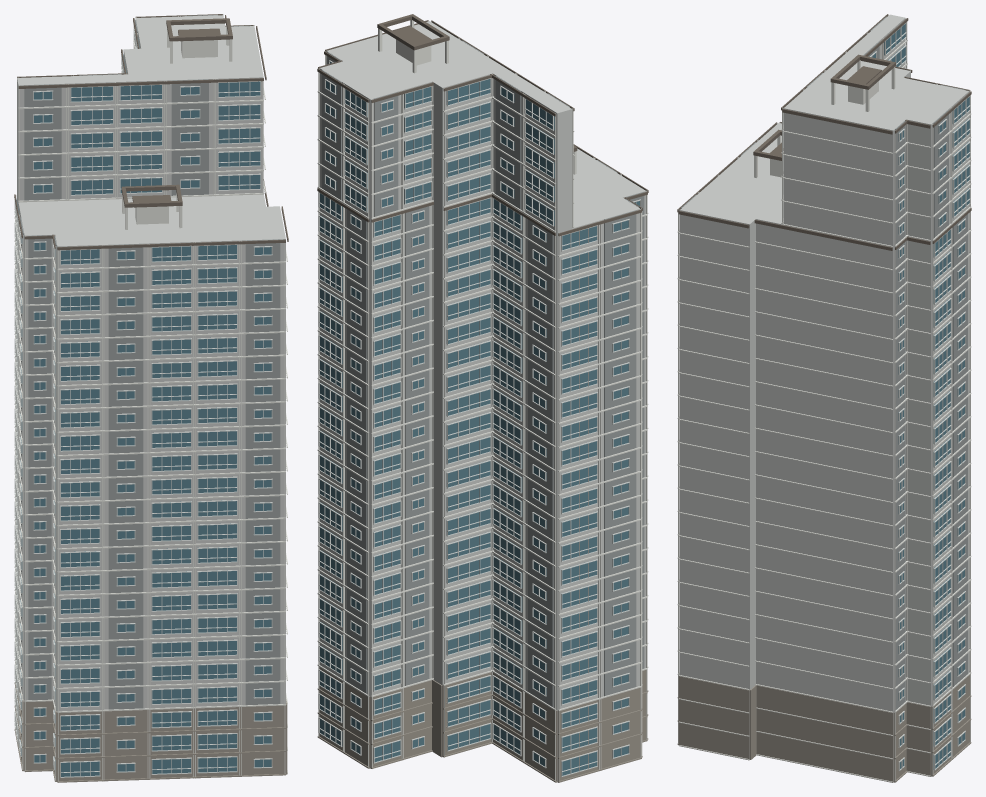
File: bespoke-banpo-xi-130.glb
The picture shows the model from 3 angles, left to right: view 1: azimuth 30°, elevation 25°; view 2: azimuth 150°, elevation 25°; view 3: azimuth 270°, elevation 25°; orthographic projection. The views are drawn at different scales.
Visible parts, largest first — view 1: editable_BX130_pale_silver_limestone, editable_BX130_blue_grey_broad_glazing, editable_BX130_grey_service_core, editable_BX130_white_window_frames, editable_BX130_ivory_course_bands, editable_BX130_warm_ground_stone, editable_BX130_dark_coping; view 2: editable_BX130_blue_grey_broad_glazing, editable_BX130_pale_silver_limestone, editable_BX130_white_window_frames, editable_BX130_grey_service_core, editable_BX130_ivory_course_bands, editable_BX130_warm_ground_stone, editable_BX130_dark_coping; view 3: editable_BX130_pale_silver_limestone, editable_BX130_ivory_course_bands, editable_BX130_warm_ground_stone, editable_BX130_grey_service_core, editable_BX130_white_window_frames, editable_BX130_blue_grey_broad_glazing, editable_BX130_dark_coping.
Part boxes in pixels (bbox=[...]): editable_BX130_pale_silver_limestone: bbox=[17, 15, 285, 770]; editable_BX130_blue_grey_broad_glazing: bbox=[16, 37, 271, 776]; editable_BX130_grey_service_core: bbox=[20, 15, 280, 710]; editable_BX130_white_window_frames: bbox=[14, 28, 272, 777]; editable_BX130_ivory_course_bands: bbox=[14, 14, 287, 782]; editable_BX130_warm_ground_stone: bbox=[14, 682, 287, 782]; editable_BX130_dark_coping: bbox=[14, 14, 288, 250]; editable_BX130_blue_grey_broad_glazing: bbox=[320, 62, 639, 775]; editable_BX130_pale_silver_limestone: bbox=[319, 21, 646, 781]; editable_BX130_white_window_frames: bbox=[318, 60, 640, 777]; editable_BX130_grey_service_core: bbox=[321, 40, 644, 707]; editable_BX130_ivory_course_bands: bbox=[317, 20, 648, 781]; editable_BX130_warm_ground_stone: bbox=[317, 667, 648, 782]; editable_BX130_dark_coping: bbox=[317, 14, 648, 236]; editable_BX130_pale_silver_limestone: bbox=[679, 14, 969, 781]; editable_BX130_ivory_course_bands: bbox=[677, 14, 971, 782]; editable_BX130_warm_ground_stone: bbox=[677, 675, 971, 782]; editable_BX130_grey_service_core: bbox=[681, 16, 967, 709]; editable_BX130_white_window_frames: bbox=[783, 22, 970, 771]; editable_BX130_blue_grey_broad_glazing: bbox=[872, 24, 969, 769]; editable_BX130_dark_coping: bbox=[677, 14, 971, 250].
Size of the model in its own units: 32.99 by 78.5 by 30.9.
